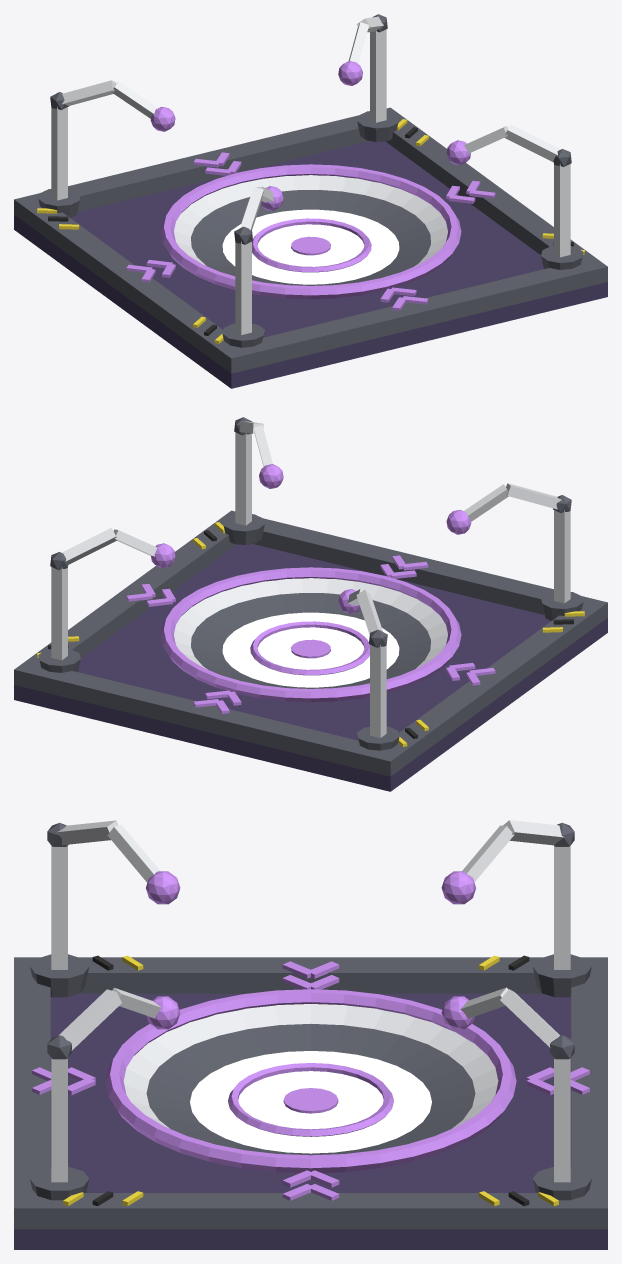
The model's file is ReceiverPad.fbx.
The picture shows the model from 3 angles, top to bottom: view 1: azimuth 30°, elevation 25°; view 2: azimuth 150°, elevation 25°; view 3: azimuth 270°, elevation 25°; orthographic projection. The views are drawn at different scales.
Parts seen in each view (by area): view 1: ReceiverPad; view 2: ReceiverPad; view 3: ReceiverPad.
Part boxes in pixels (x1=…): ReceiverPad: x1=14, y1=14, x2=607, y2=388; ReceiverPad: x1=14, y1=417, x2=607, y2=791; ReceiverPad: x1=14, y1=820, x2=607, y2=1249.
Bounding box in the file's own units: 1.3 × 0.5308 × 1.3.
